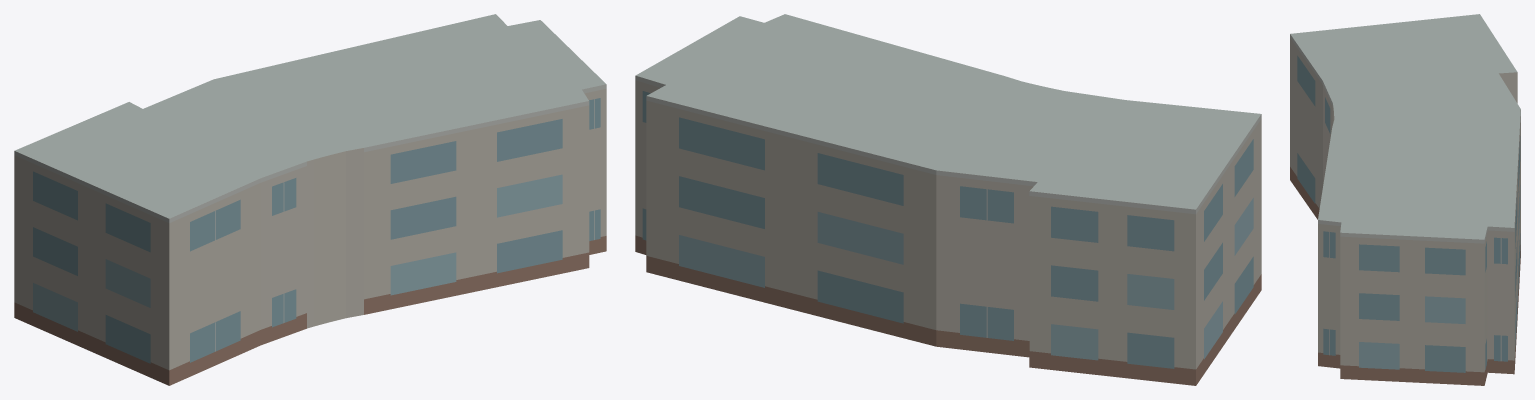
Rendered from survey-upis-32932147.glb.
3 renders of one model, left to right at view 1: azimuth 30°, elevation 25°; view 2: azimuth 150°, elevation 25°; view 3: azimuth 270°, elevation 25°, orthographic. The views are drawn at different scales.
Parts seen in each view (by area): view 1: survey-upis-32932147.tmp; view 2: survey-upis-32932147.tmp; view 3: survey-upis-32932147.tmp.
Boxes of the visible parts, bbox=[...] form: survey-upis-32932147.tmp: bbox=[14, 14, 606, 385]; survey-upis-32932147.tmp: bbox=[635, 14, 1261, 385]; survey-upis-32932147.tmp: bbox=[1290, 14, 1520, 385].
Bounding box in the file's own units: 30.31 × 9.15 × 13.1.
